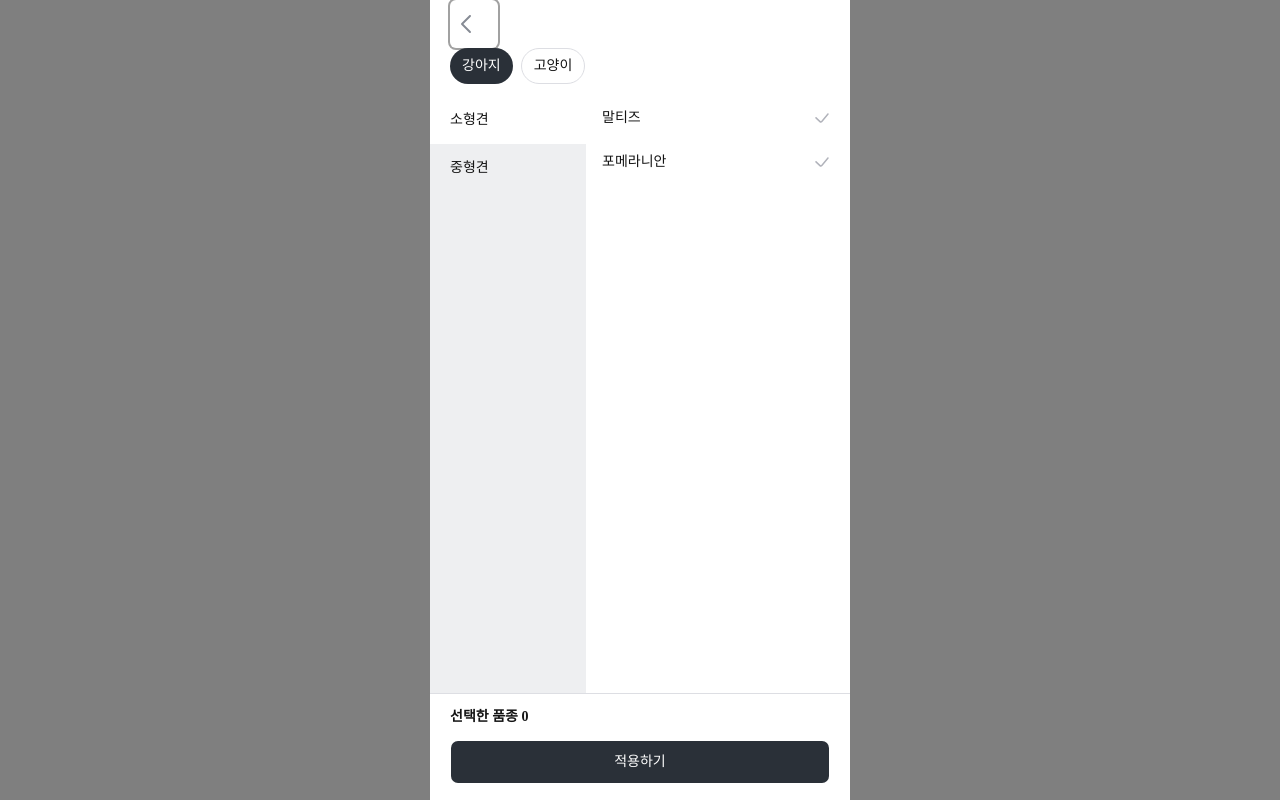
ReviewFilterPicker › 첫 갈래의 항목을 보여주고, 갈래를 바꾸면 오른쪽 목록이 바뀐다
Expected: the text "말티즈" is shown, [602,107,641,129]
Expected: the text "웰시코기" is not shown
Click the button "중형견". click: click(508, 168)
box: [430,144,586,192]
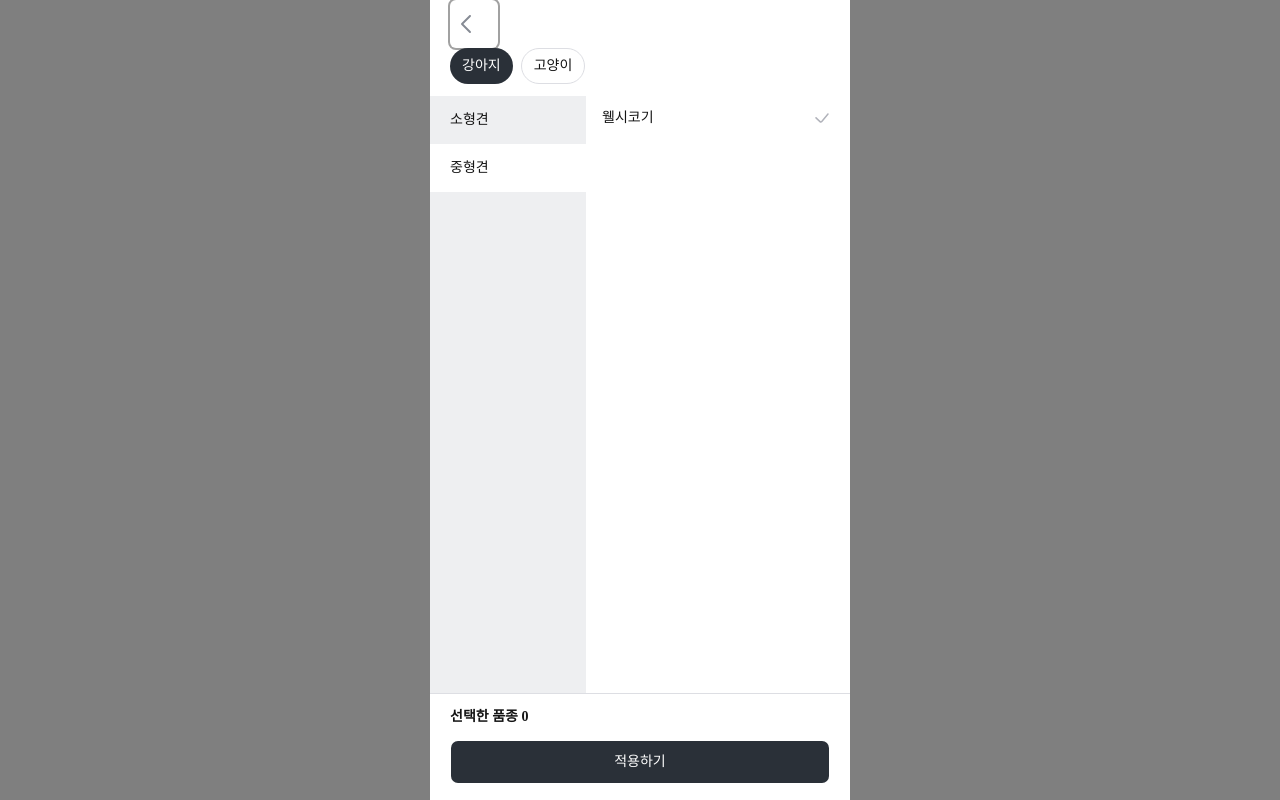
Result: the button "말티즈" is gone
Result: the text "웰시코기" is shown at [602,107,654,129]
